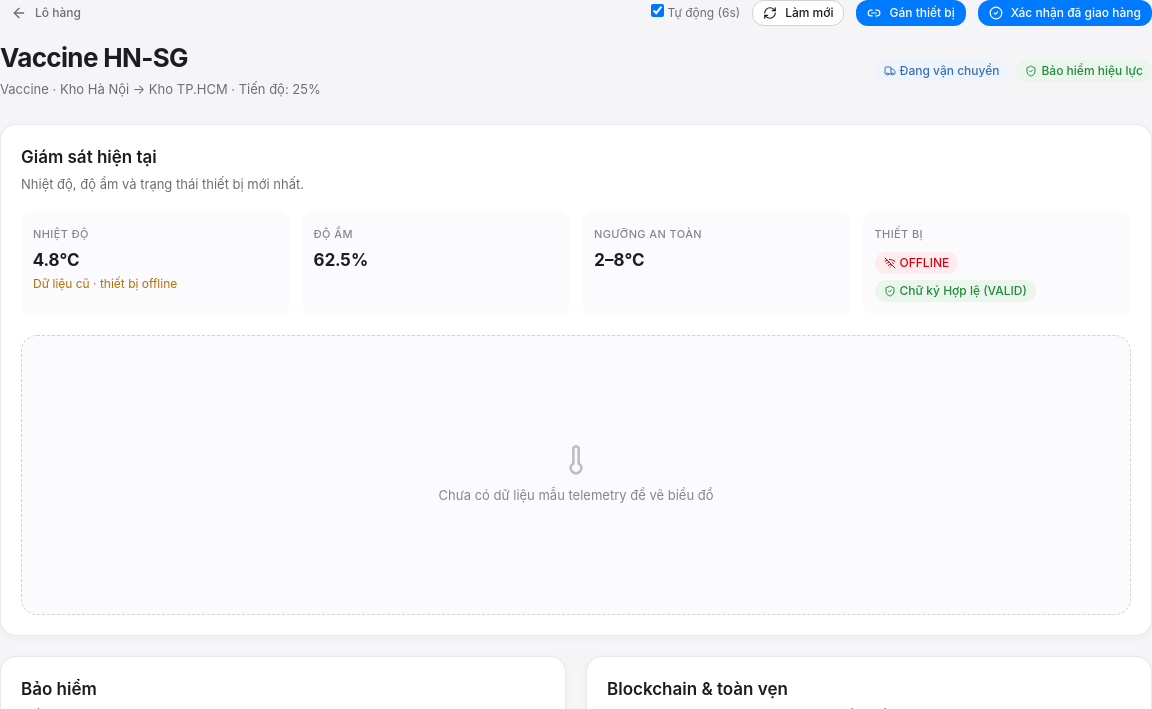
Test: ShipmentDetailPage delivery completion › opens confirmation modal and renders completed delivery + SepoliaETH refund details
Click the button "Xác nhận đã giao hàng". click: (1065, 13)
box: [978,0,1151,26]
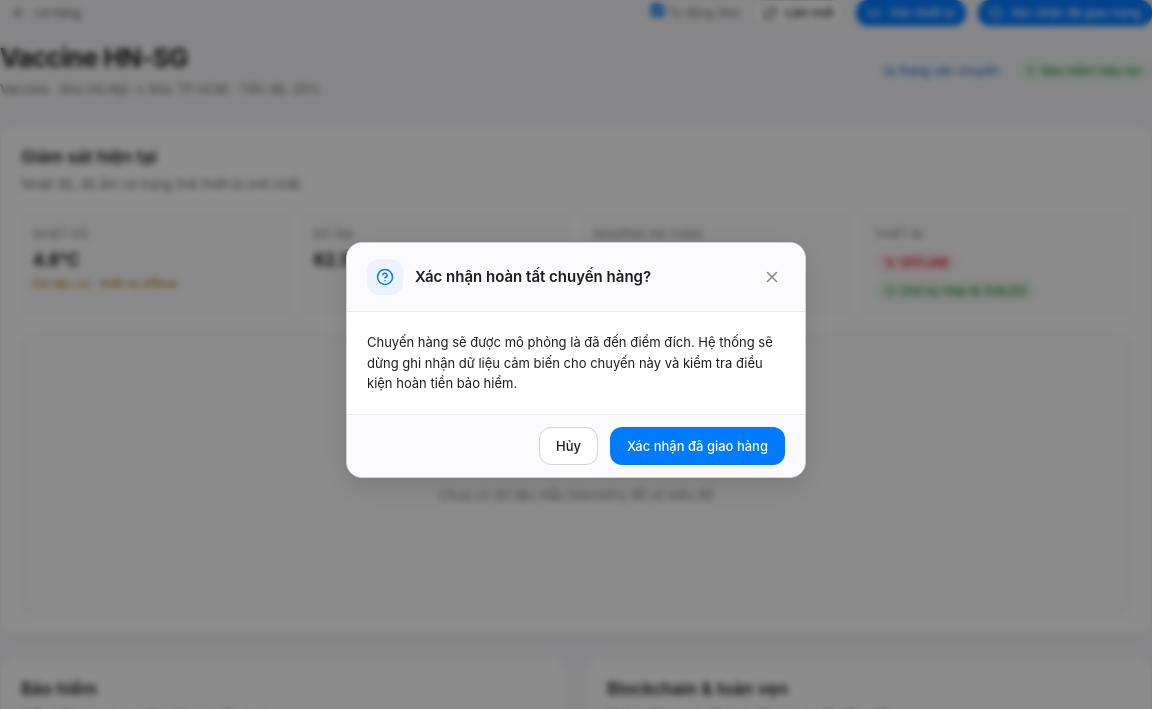
Now the heading "Xác nhận hoàn tất chuyến hàng?" is shown, box [415,267,651,287]
Now the text "Chuyến hàng sẽ được mô phỏng là đã đến điểm đích" is shown, box [367,334,773,391]
Click the button "Xác nhận đã giao hàng". click: (698, 446)
box: [610,427,785,465]
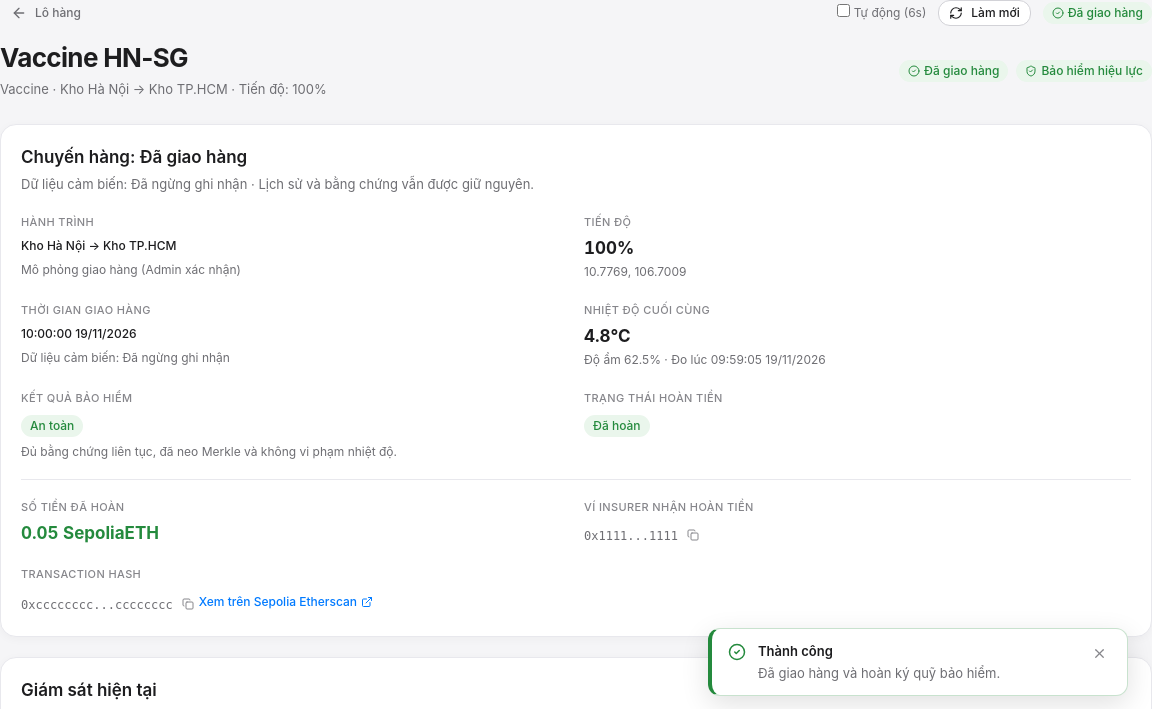
Now the heading "Chuyến hàng: Đã giao hàng" is shown, box [21,147,247,167]
Now the text "100%" is shown, box [584,238,634,258]
Now the text "An toàn" is shown, box [21,415,83,437]
